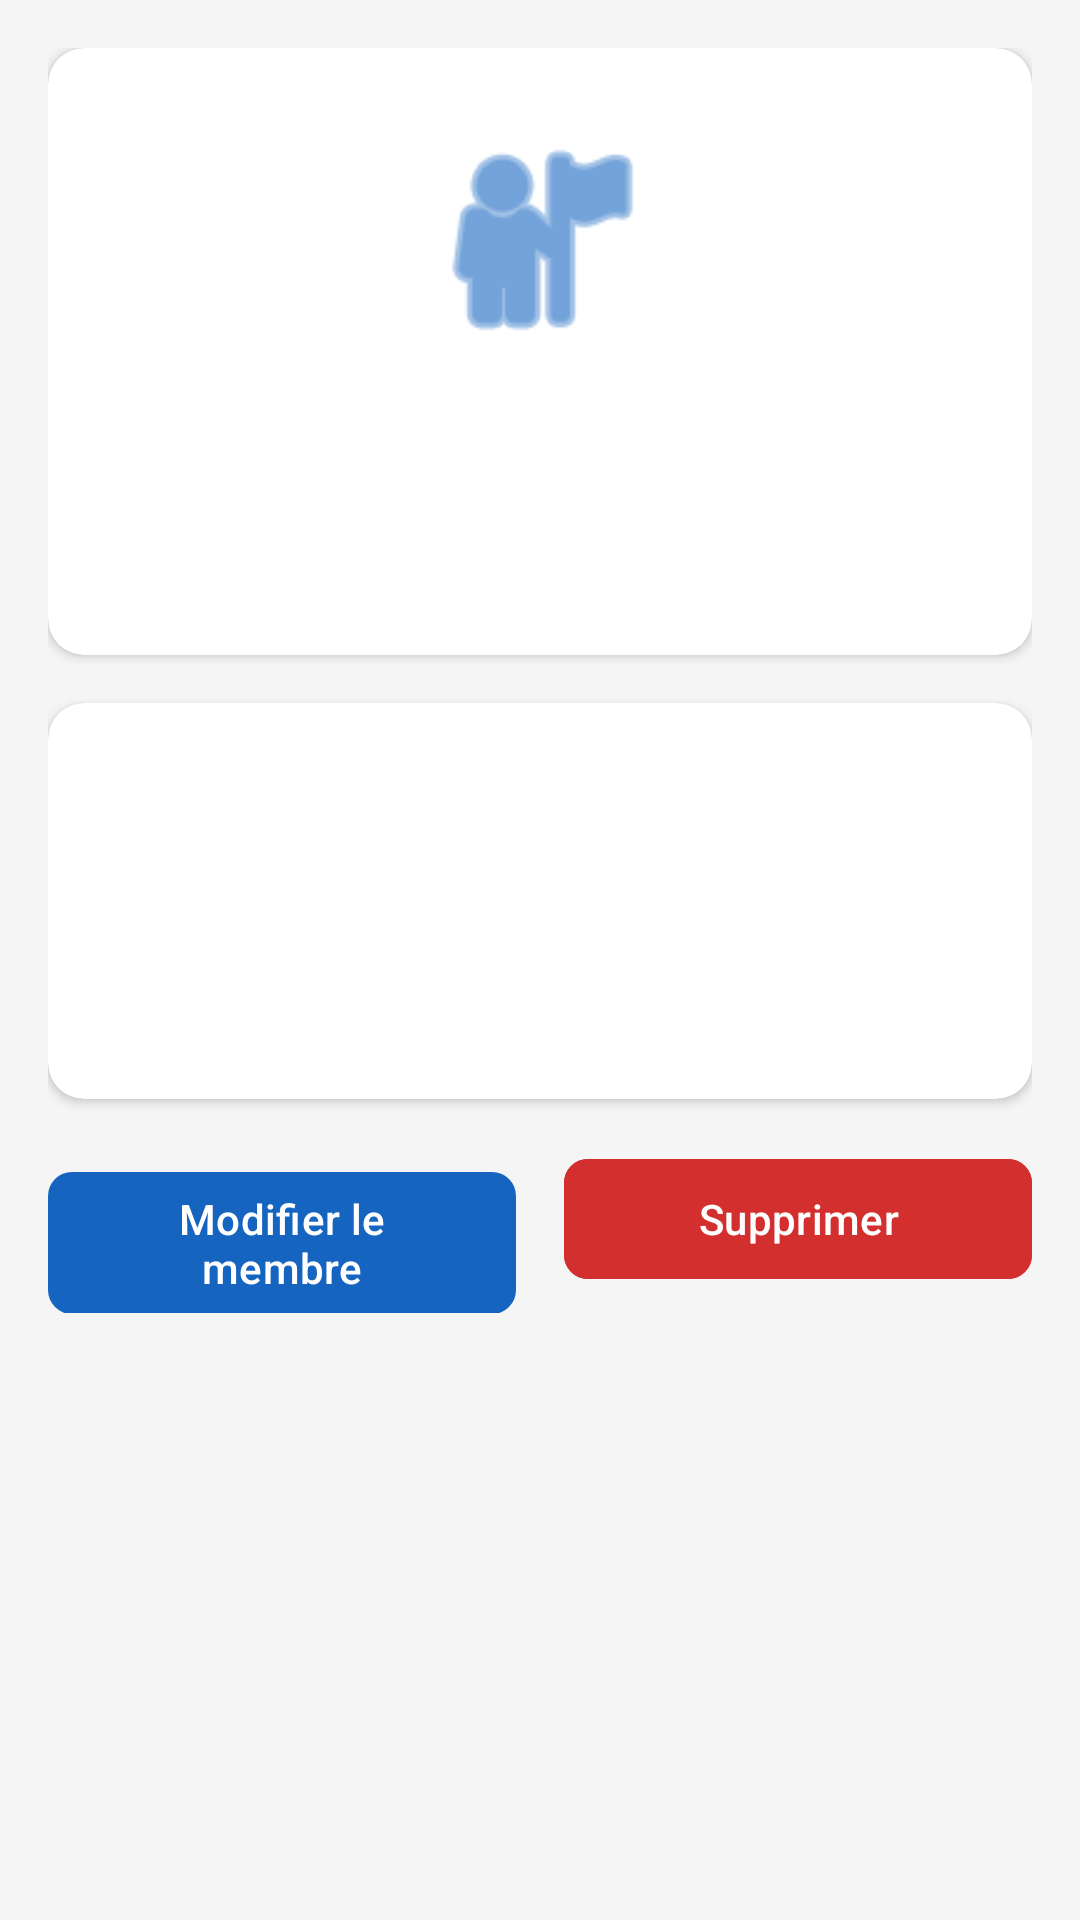

Where icons sit on this 1080w x 1920h app screen, as (x1, y1, x2, y2):
Profile: (452, 150, 633, 330)
